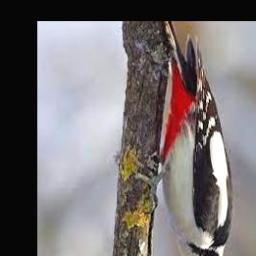Woodpecker: (141, 21, 233, 256)
